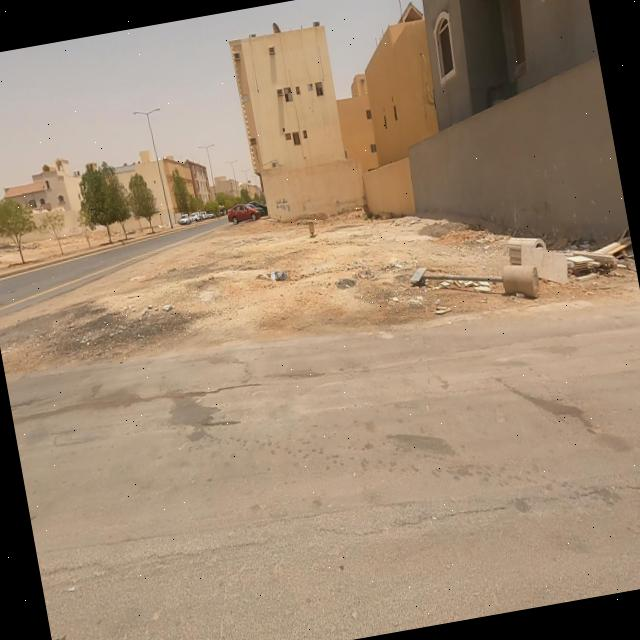Graffiti: (275, 197, 292, 216)
